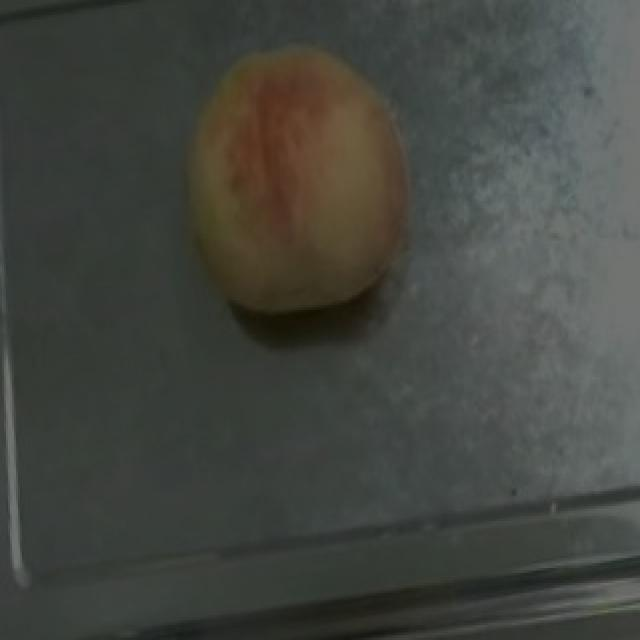Fruit: (158, 20, 436, 335)
